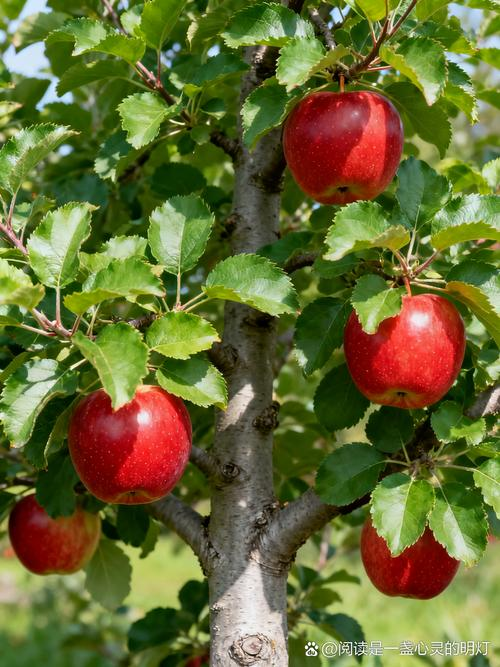ripe: (63, 383, 208, 505), (339, 286, 466, 415), (282, 78, 402, 211), (357, 490, 471, 611), (7, 485, 111, 580)
